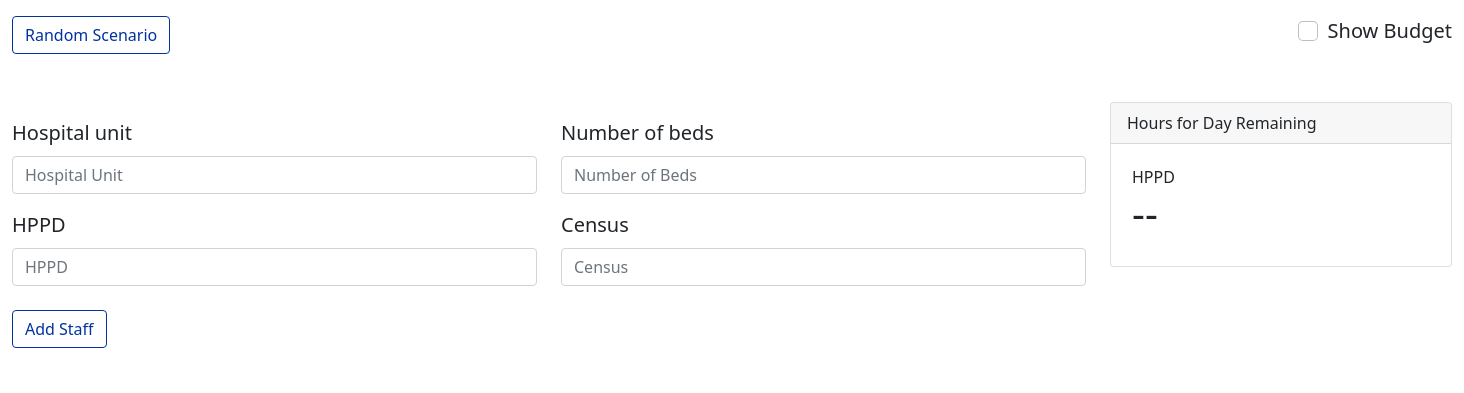
Test: <Scenario /> › Test census updates after bed number updated
Type "100" into the number field with test id "numbeds-id" at (824,175), box [561,156,1086,194]
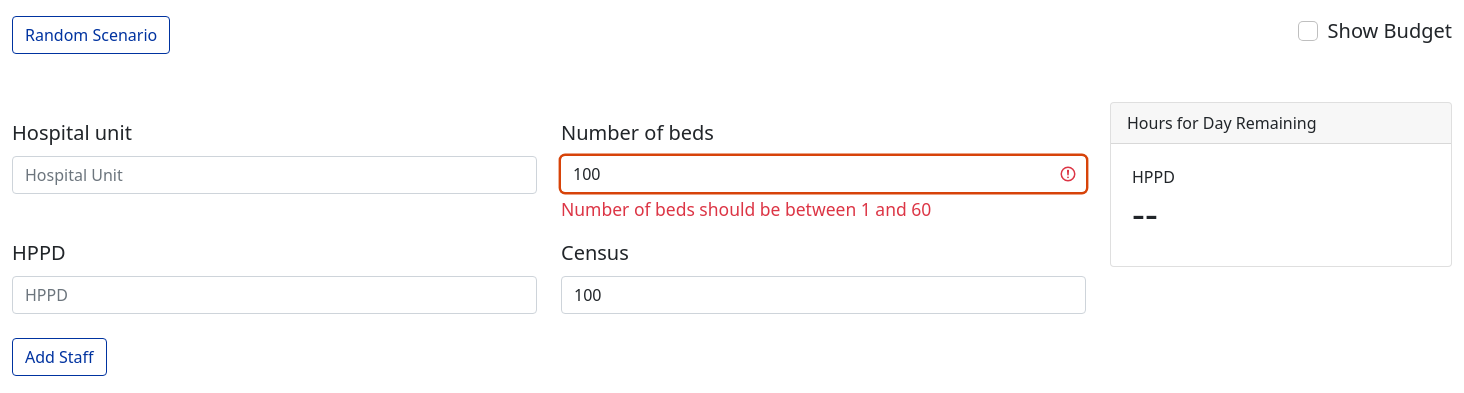
Result: the number field with test id "census-id" holds "100" at [561,276,1086,314]
